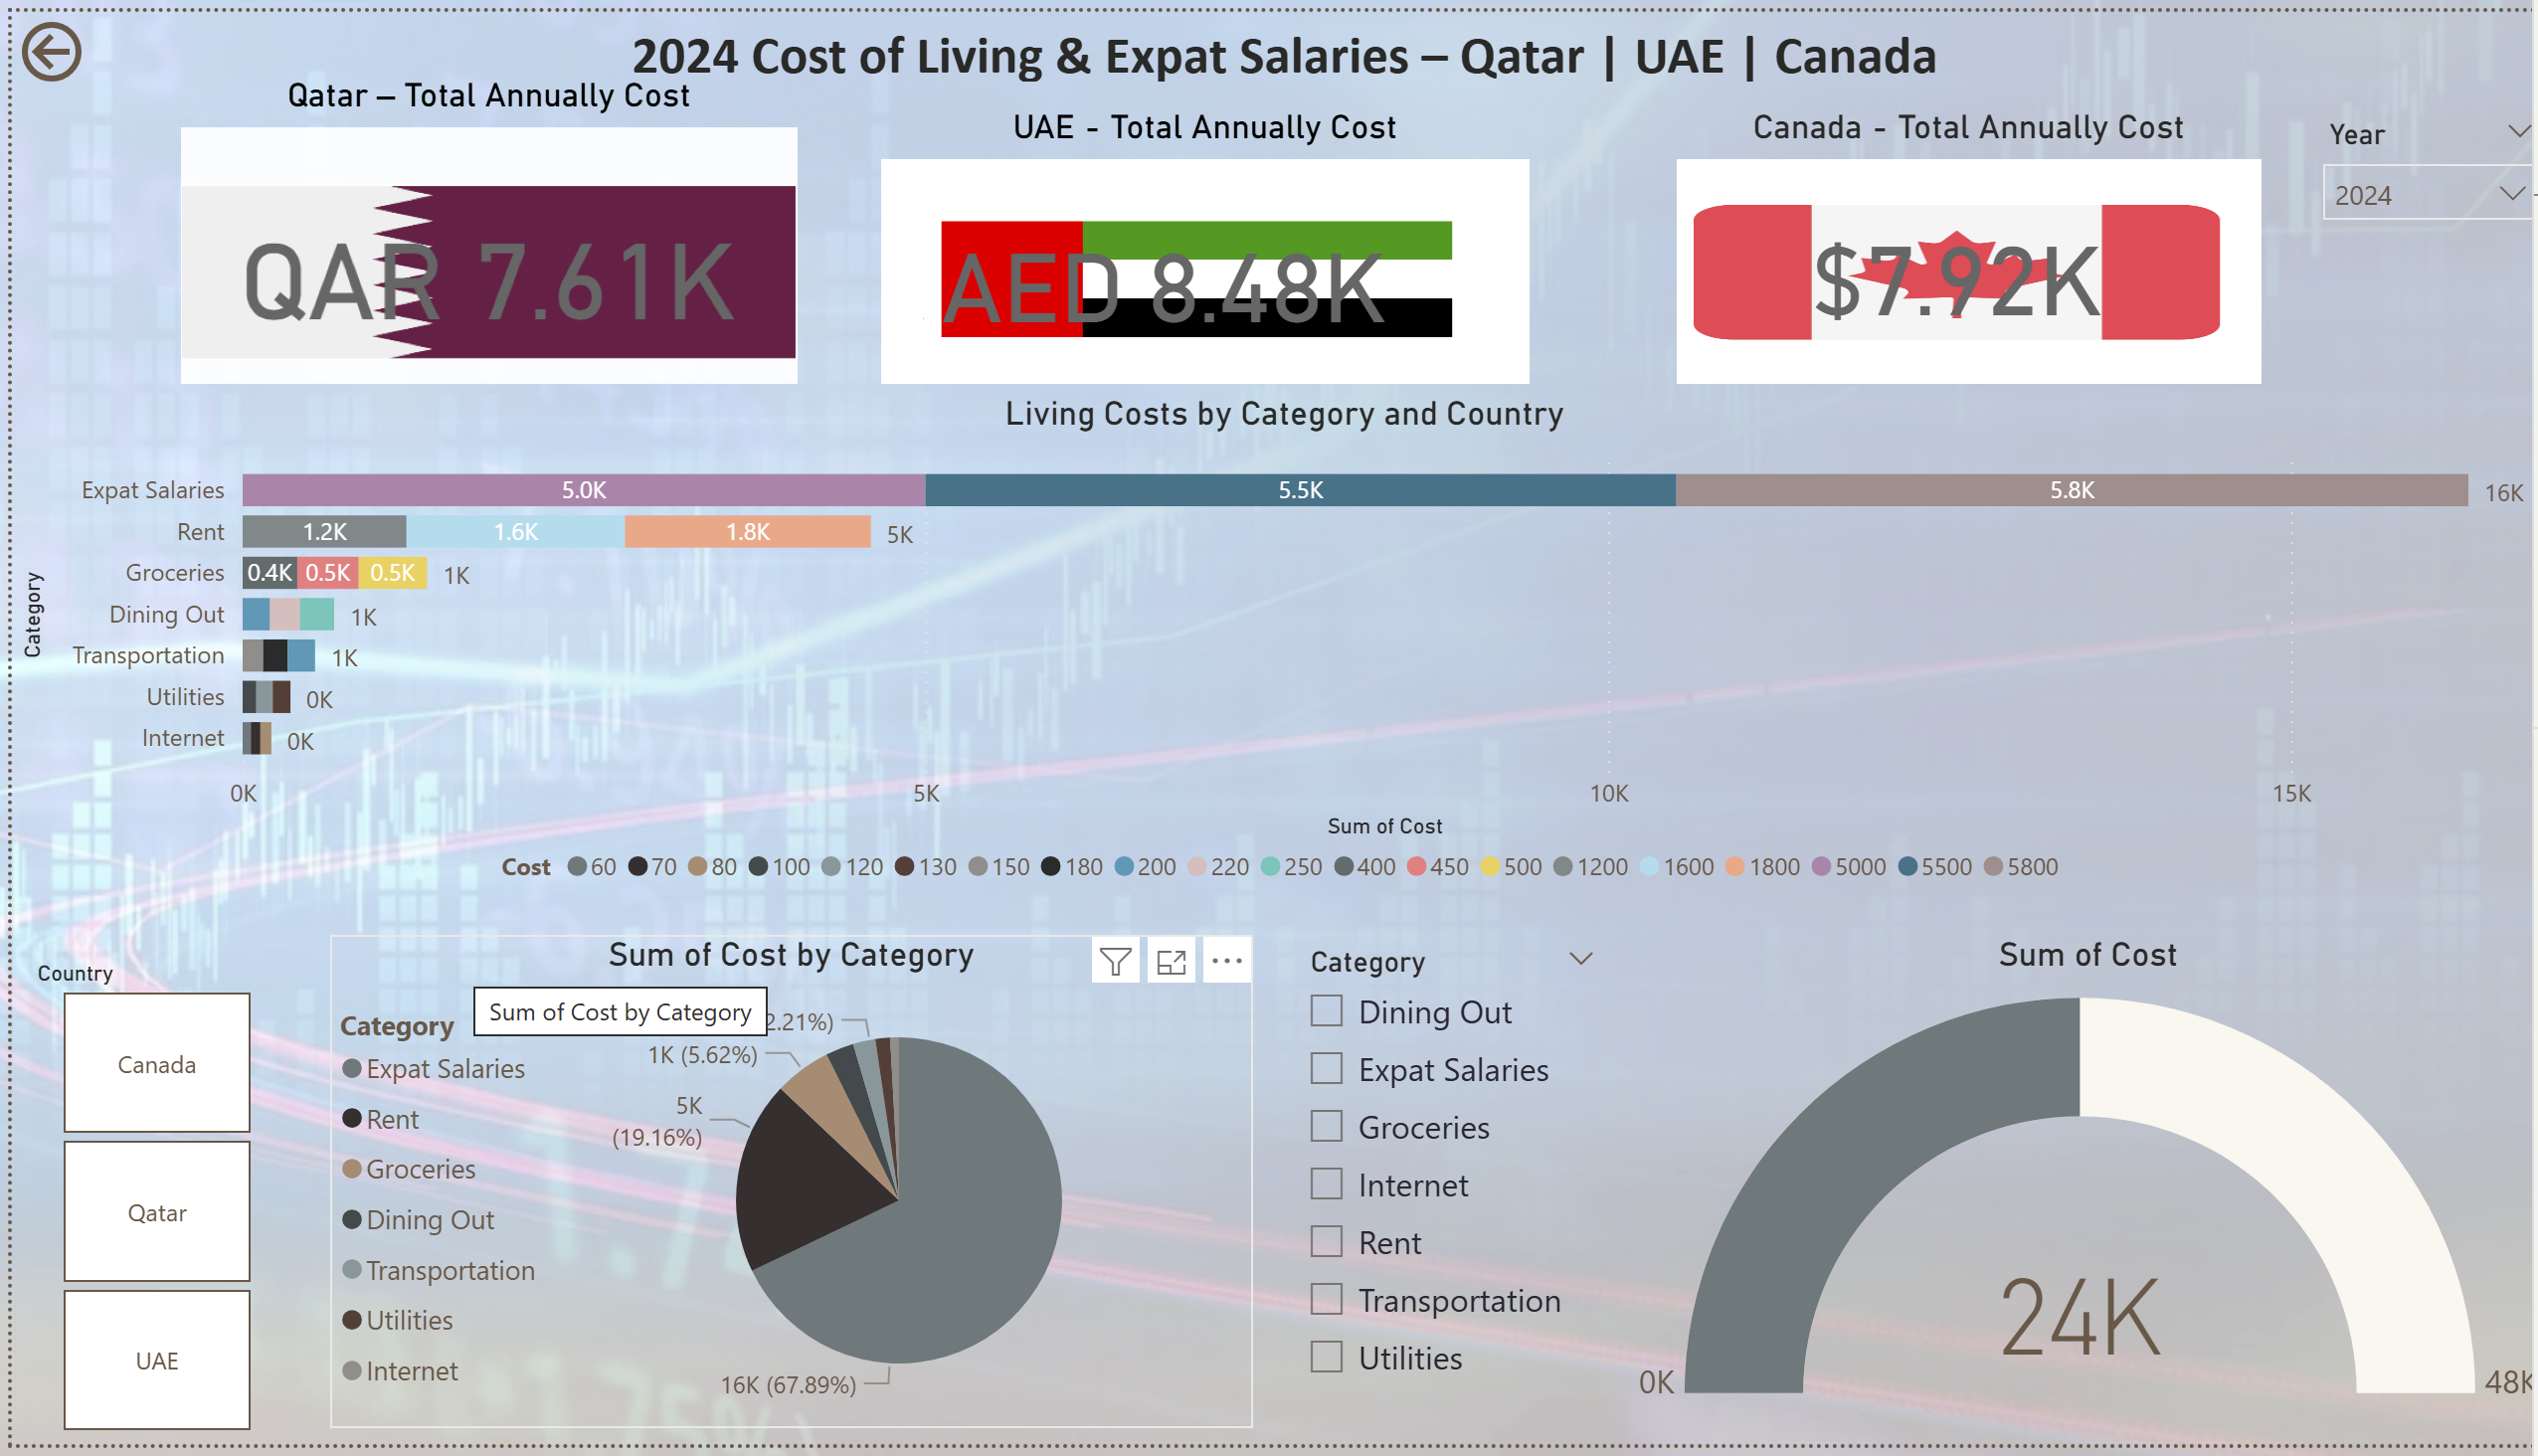

What the dashboard file says about the page in this screenshot:
{"tool":"powerbi","page":{"name":"Page 1","canvas":[1280,720],"ordinal":0},"visuals":[{"type":"textbox","box":[8,0,1272,40],"z":0},{"type":"actionButton","box":[0,0,100,40],"z":1000},{"type":"cardVisual","title":"Qatar – Total Annually Cost","fields":{"Data":["Sheet1.Qatar"]},"box":[80,32,320,160],"z":2000},{"type":"cardVisual","title":"UAE - Total Annually Cost","fields":{"Data":["Sheet1.UAE"]},"box":[432,48,336,144],"z":3000},{"type":"cardVisual","title":"Canada - Total Annually Cost","fields":{"Data":["Sheet1.Canada"]},"box":[832,48,304,144],"z":4000},{"type":"barChart","title":"Living Costs by Category and Country","fields":{"Category":["Sheet1.Category"],"Y":["Sum(Sheet1.Cost)"],"Series":["Sheet1.Cost"]},"box":[0,192,1280,256],"z":5000},{"type":"pieChart","fields":{"Category":["Sheet1.Category"],"Y":["Sum(Sheet1.Cost)"]},"box":[160,464,464,248],"z":6000},{"type":"slicer","fields":{"Values":["Sheet1.Country"]},"box":[0,472,144,248],"z":7000},{"type":"slicer","fields":{"Values":["Sheet1.Category"]},"box":[640,464,168,248],"z":8000},{"type":"slicer","fields":{"Values":["Sheet1.Year"]},"box":[1152,48,128,96],"z":9000},{"type":"gauge","fields":{"Y":["Sum(Sheet1.Cost)"]},"box":[808,464,472,248],"z":10000}]}

Visuals, with their boxes in screenshot pixels (x1, y1, x2, y2), scaled from the page's 1280x720 canvas onto the 2538x1456 screenshot:
textbox: [16,0,2537,81]
actionButton: [0,0,198,81]
"Qatar – Total Annually Cost" cardVisual: [159,65,794,388]
"UAE - Total Annually Cost" cardVisual: [856,97,1523,388]
"Canada - Total Annually Cost" cardVisual: [1650,97,2253,388]
"Living Costs by Category and Country" barChart: [0,388,2537,906]
pieChart - Sheet1.Category x Sum(Sheet1.Cost): [317,938,1237,1440]
slicer - Sheet1.Country: [0,955,285,1455]
slicer - Sheet1.Category: [1269,938,1602,1440]
slicer - Sheet1.Year: [2284,97,2537,291]
gauge - Sum(Sheet1.Cost): [1602,938,2537,1440]
